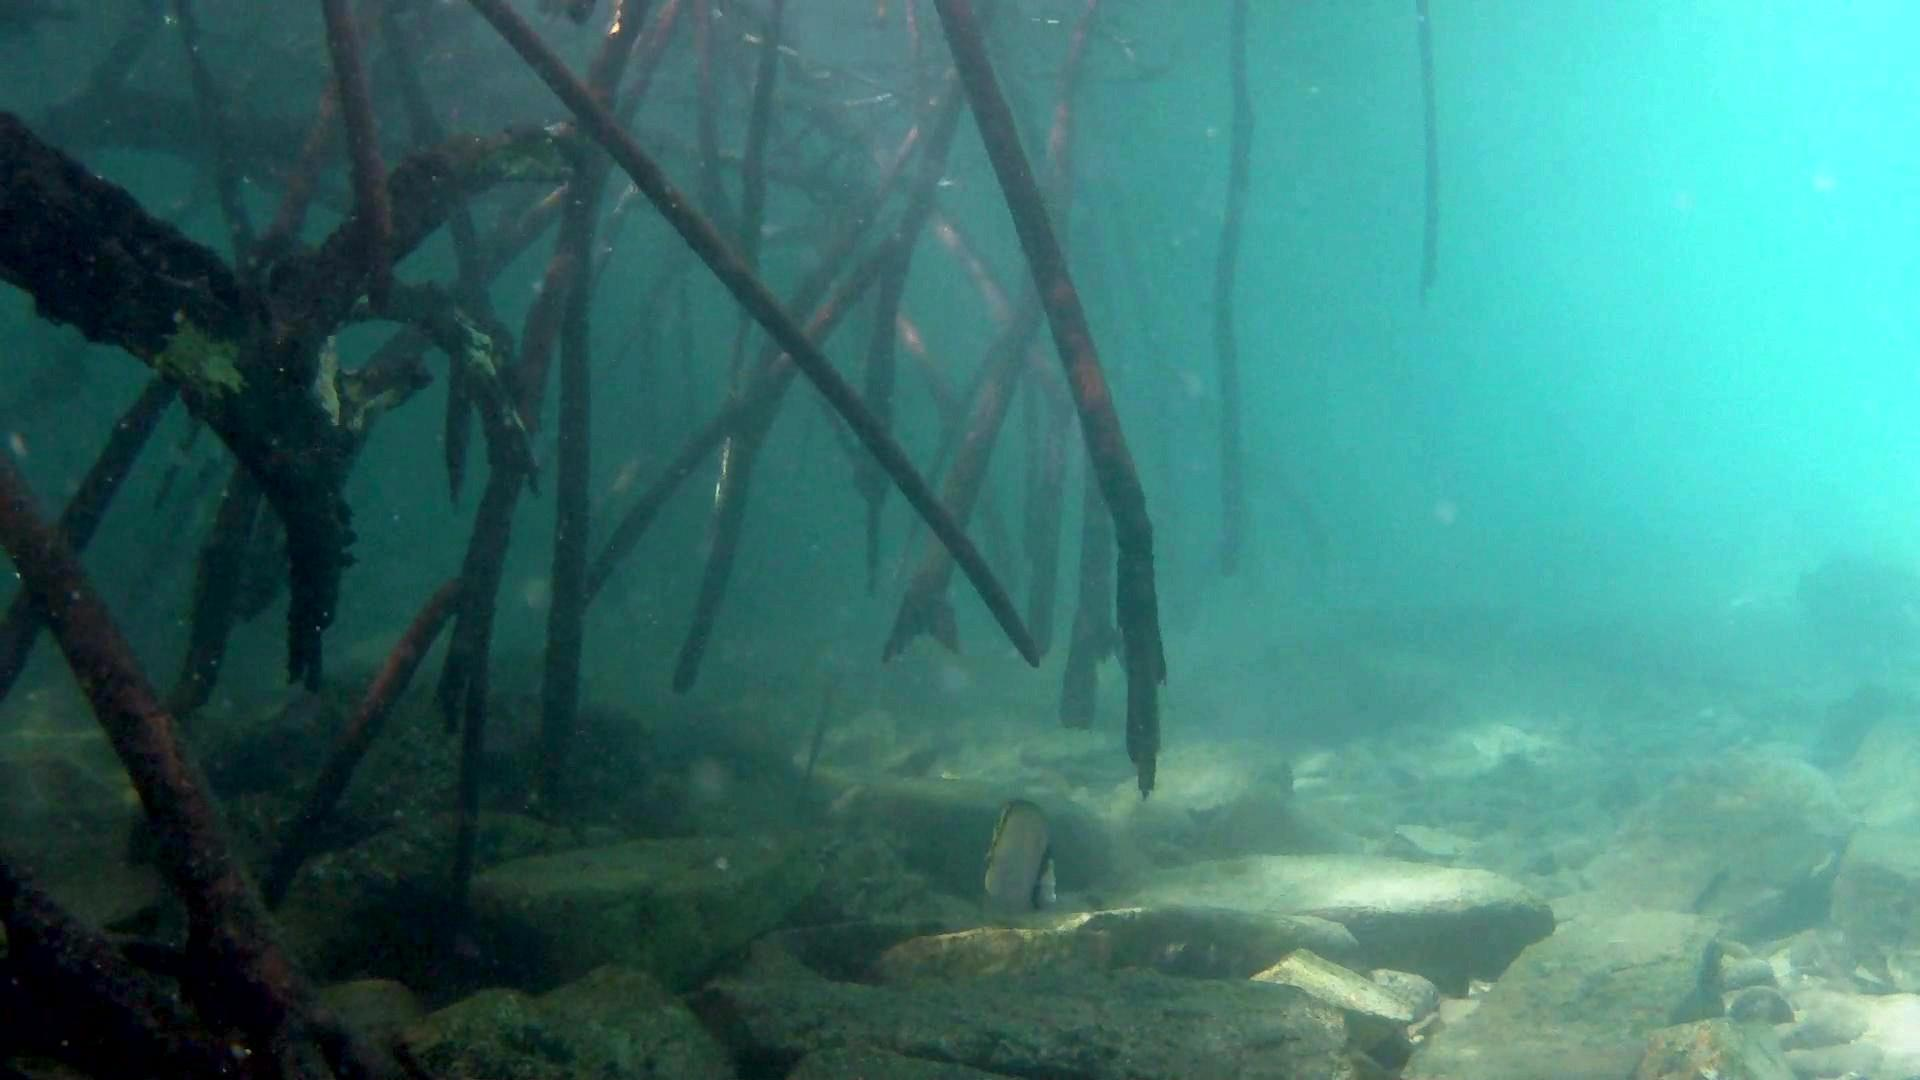chaetodon vagabundus: (976, 795, 1062, 915)
